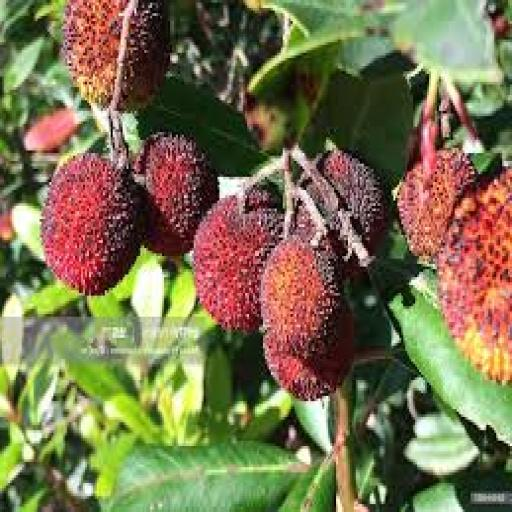lychee: (436, 169, 511, 382), (41, 154, 143, 295), (193, 191, 281, 332), (134, 135, 218, 255), (259, 238, 342, 354), (397, 148, 475, 258), (63, 0, 127, 108)
